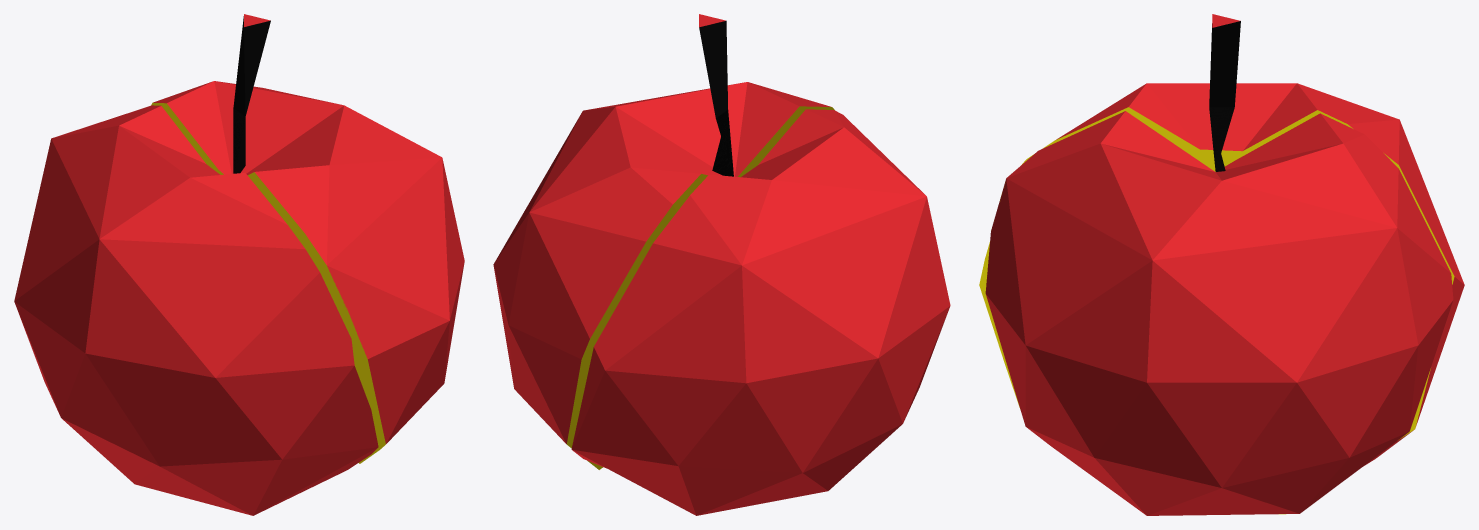
File: BrokenApple.fbx
The picture shows the model from 3 angles, left to right: view 1: azimuth 30°, elevation 25°; view 2: azimuth 150°, elevation 25°; view 3: azimuth 270°, elevation 25°; orthographic projection. The views are drawn at different scales.
Parts seen in each view (by area): view 1: Apple_cell.001, Apple_cell; view 2: Apple_cell.001, Apple_cell; view 3: Apple_cell, Apple_cell.001.
Boxes of the visible parts, left/top/right/bottom form: Apple_cell.001: left=14, top=105, right=378, bottom=515; Apple_cell: left=151, top=14, right=464, bottom=463; Apple_cell.001: left=571, top=109, right=950, bottom=515; Apple_cell: left=493, top=14, right=834, bottom=469; Apple_cell: left=985, top=14, right=1453, bottom=515; Apple_cell.001: left=979, top=83, right=1464, bottom=514.
Bounding box in the file's own units: 10.34 × 12.1 × 10.87.
